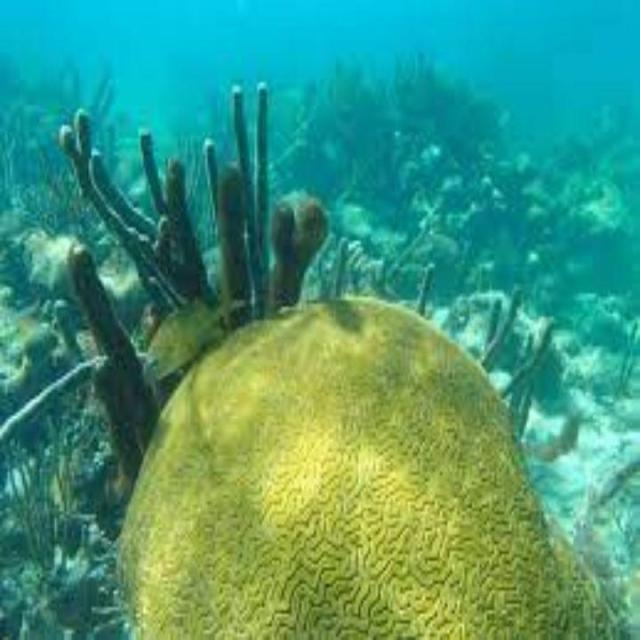Healthy Coral: (109, 285, 605, 628)
